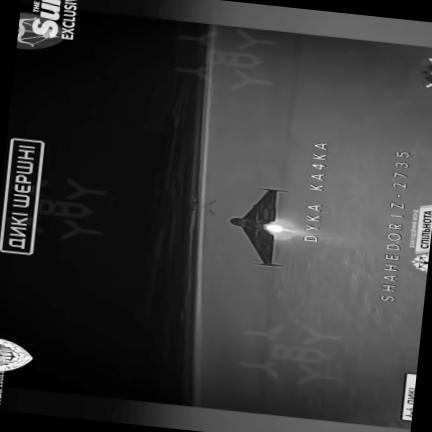Shahed: (231, 187, 287, 266)
